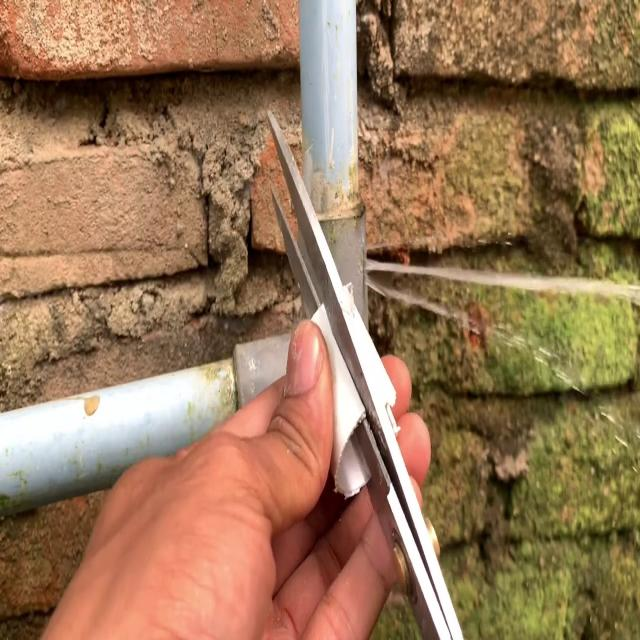leak: (366, 258, 640, 302)
